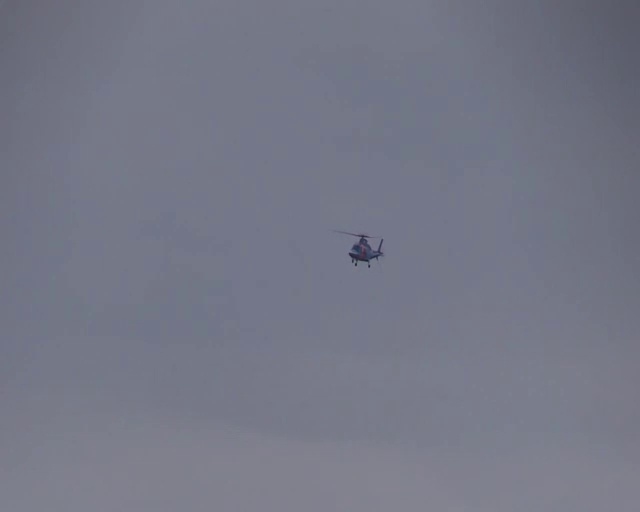HELICOPTER: (330, 228, 386, 268)
